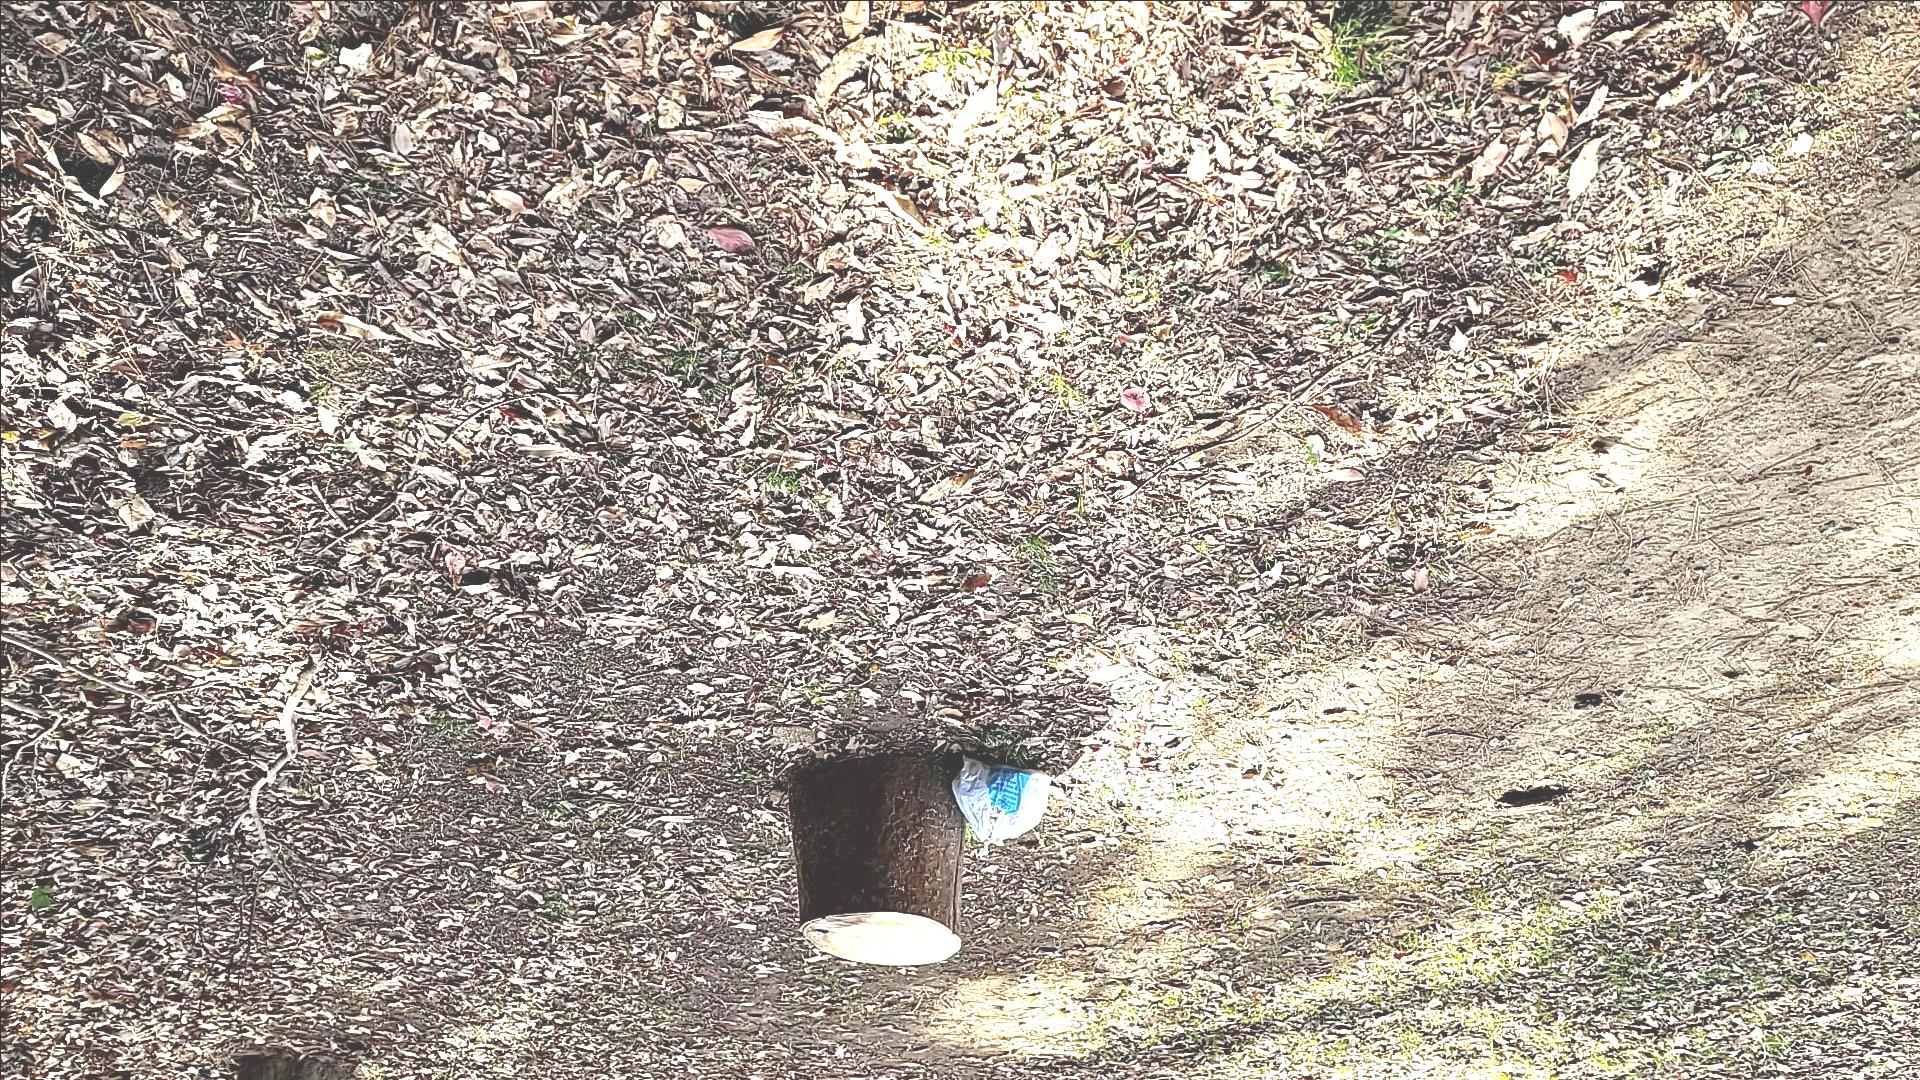white_bag: (945, 752, 1059, 858)
